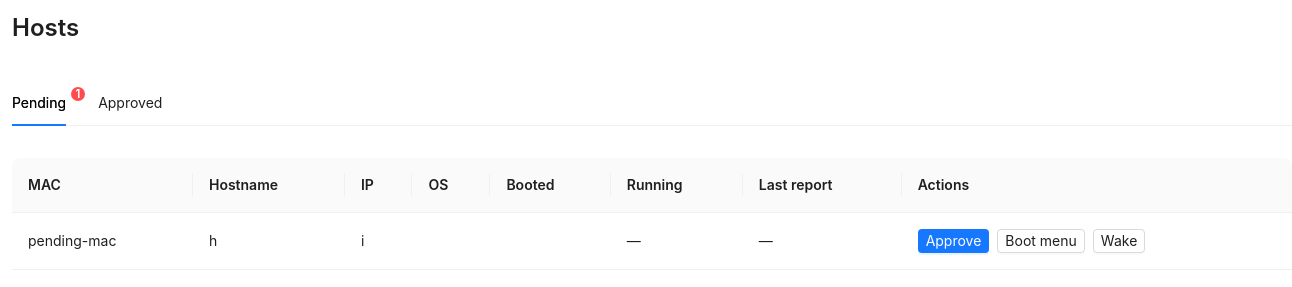
HostsView › renders pending and approved hosts
Expected: the text "pending-mac" is shown, [12,213,193,270]
Click the tab "Approved": [130, 103] box [98,92,162,114]
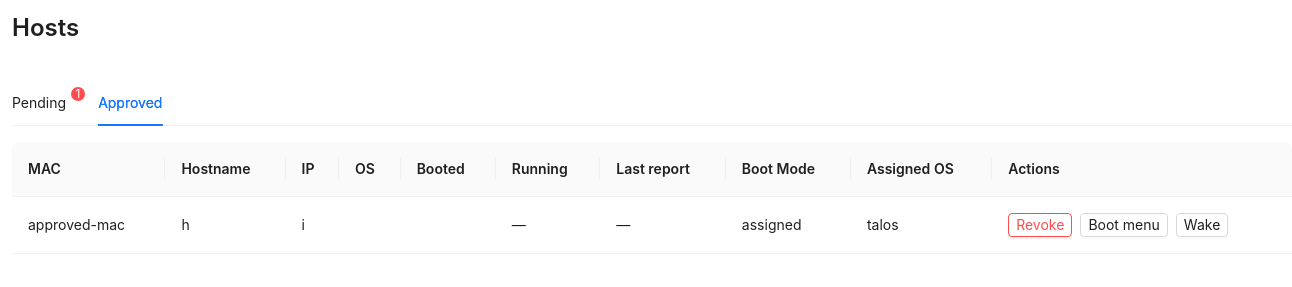
Now the text "approved-mac" is shown, box [12,197,165,254]
Now the text "talos" is shown, box [851,197,992,254]
